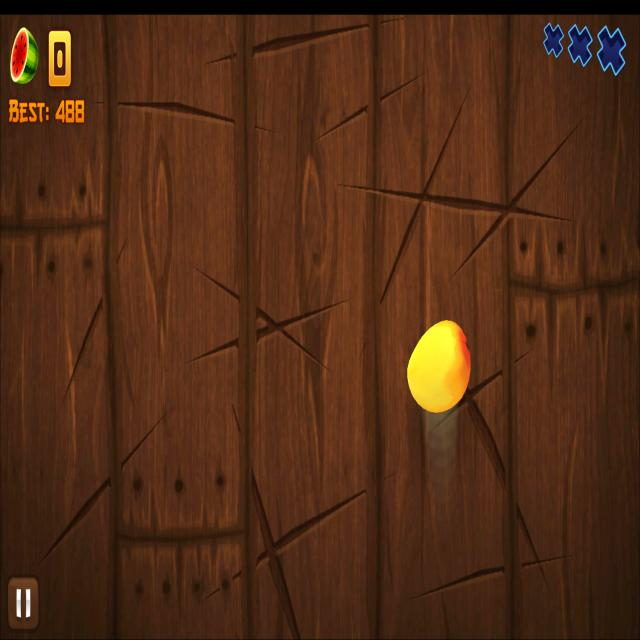fruit: (405, 316, 471, 416)
